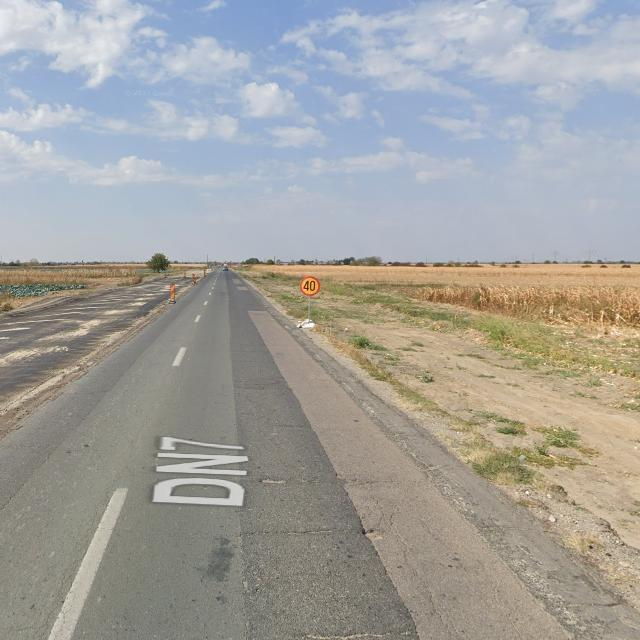forb_speed_over_40: (300, 276, 320, 296)
